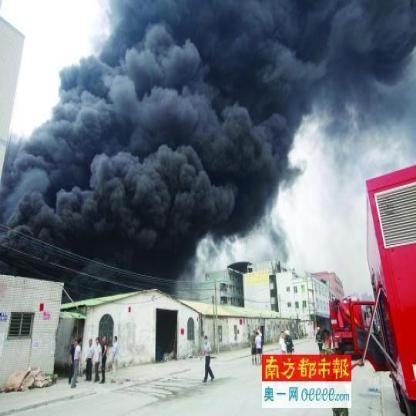smoke: (111, 1, 414, 104), (108, 108, 296, 226), (59, 50, 110, 276), (4, 124, 54, 256), (114, 228, 197, 280)
